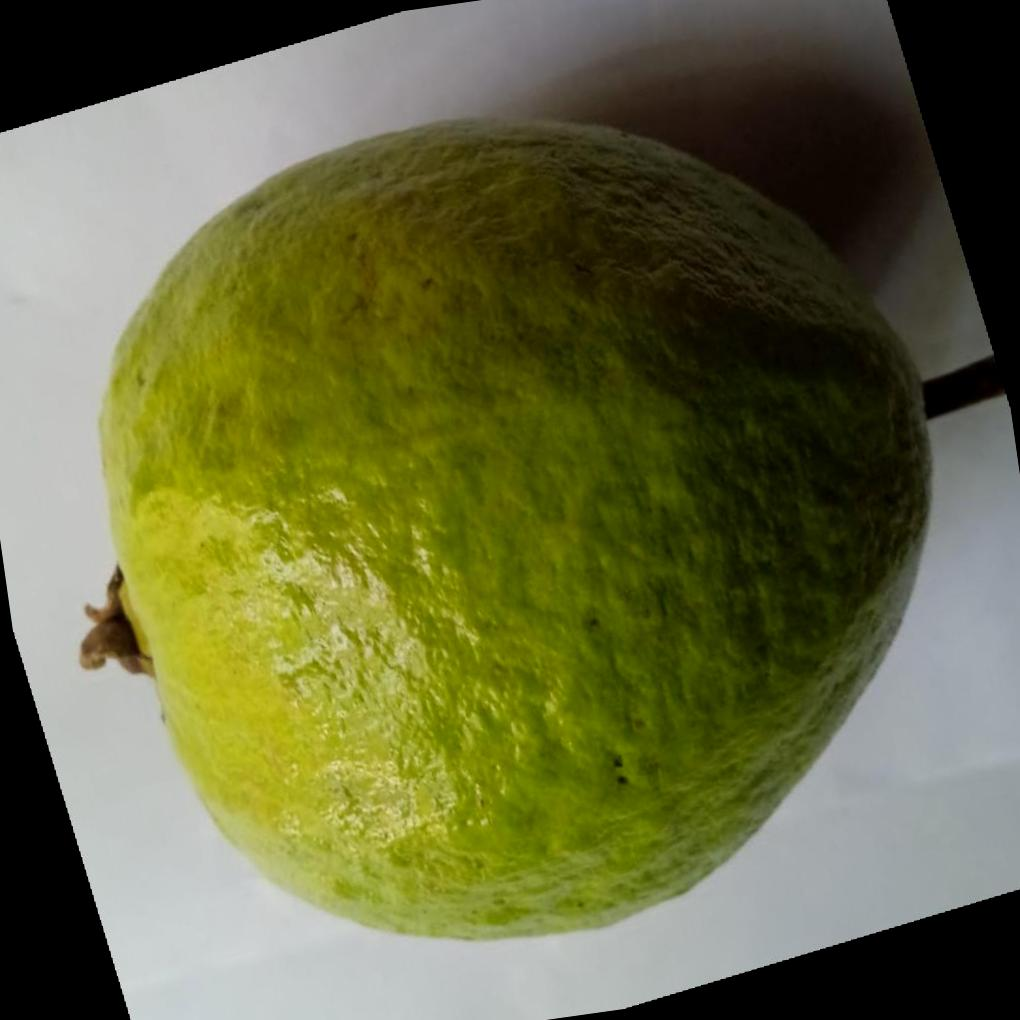FreshGuava: (80, 111, 934, 941)
